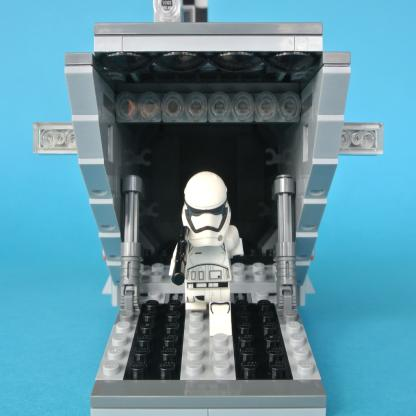Helmet: (181, 171, 231, 249)
